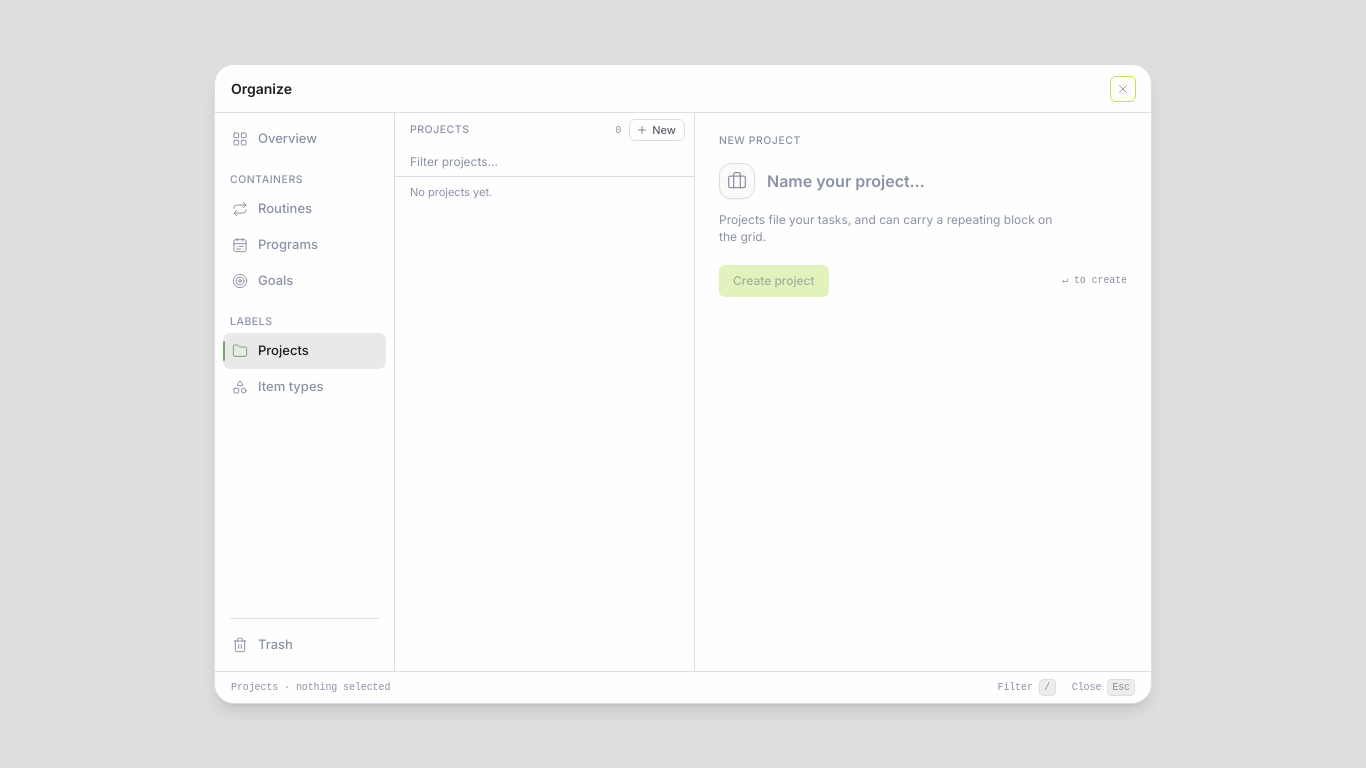
Test: the trashed-name guard does not go stale mid-session › refuses a name deleted moments ago in the same section, with no refetch
The image size is (1366, 768).
Later steps or results of the test are not shown.
Type "Work" into the field with test id "project-new-name" at coordinates (947, 181), box top-left (763, 168), bottom-right (1131, 194)
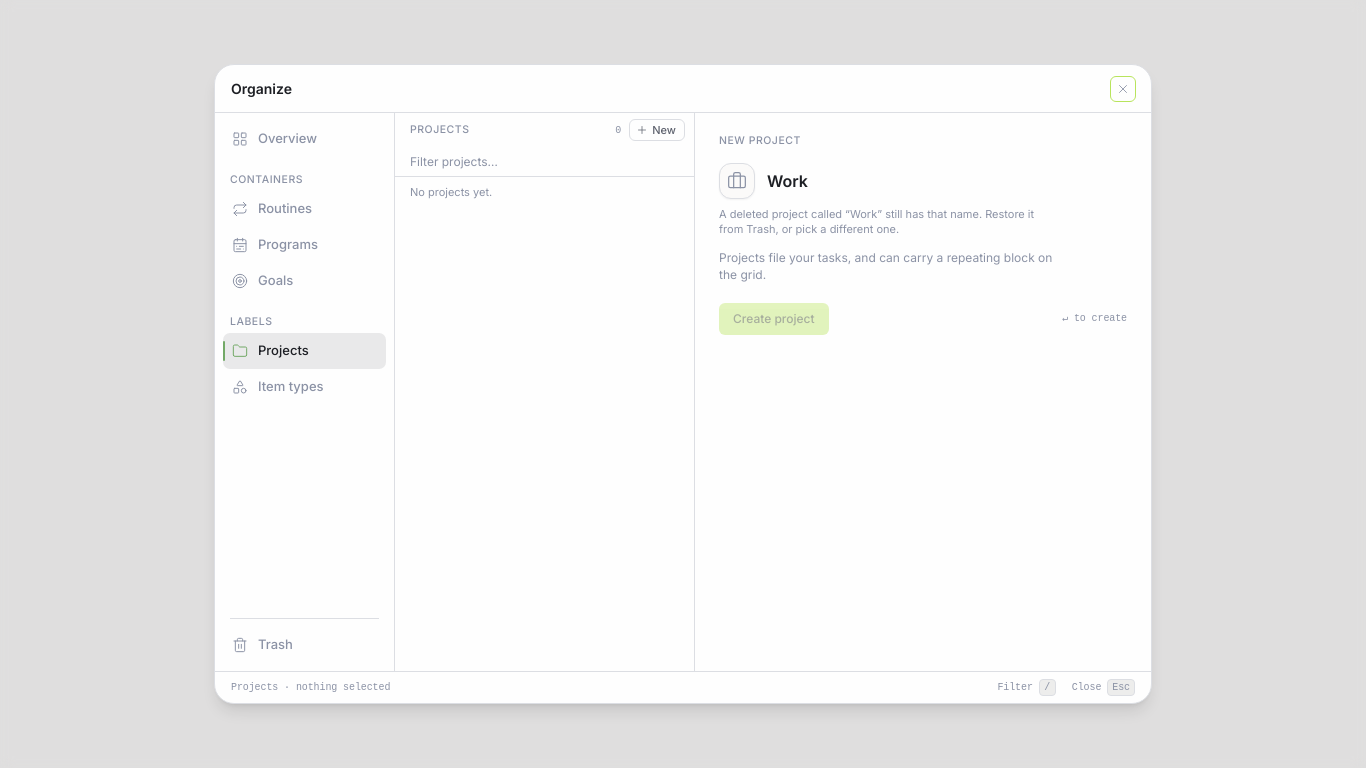
Check: the button with test id "project-add" is disabled, box top-left (719, 303), bottom-right (829, 335)
Check: the text with test id "project-new-problem" shows "Trash", box top-left (719, 207), bottom-right (1034, 236)
